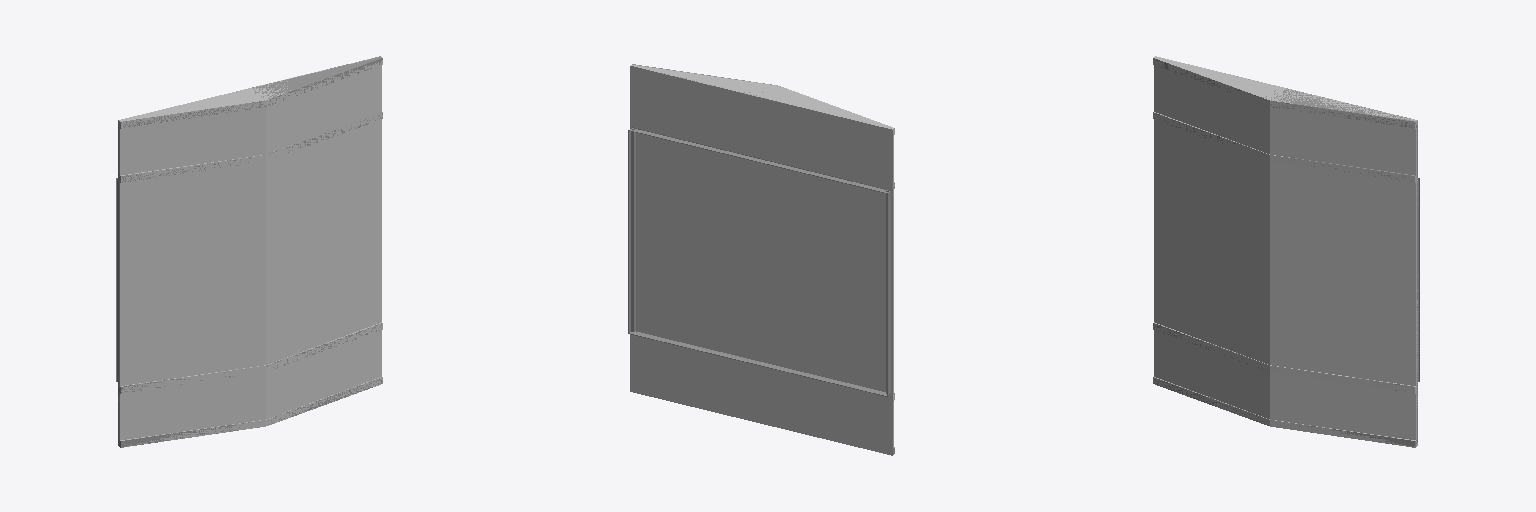
File: aucman_roof_skylight_cap.obj
The picture shows the model from 3 angles: view 1: azimuth 30°, elevation 25°; view 2: azimuth 150°, elevation 25°; view 3: azimuth 330°, elevation 25°; orthographic projection.
Visible parts, largest first — view 1: c_convex_005, c_convex_006, c_convex_007, g_skylight_mortar, c_convex_002, c_convex_003, c_convex_004, c_convex_001; view 2: c_convex_005, c_convex_006, c_convex_007, g_skylight_mortar, c_convex_001, c_convex_002; view 3: c_convex_005, c_convex_007, c_convex_006, c_convex_002, g_skylight_mortar, c_convex_003, c_convex_004, c_convex_001.
Part boxes in pixels (bbox=[...]): c_convex_005: bbox=[118, 65, 381, 439]; c_convex_006: bbox=[120, 330, 381, 439]; c_convex_007: bbox=[118, 58, 378, 178]; g_skylight_mortar: bbox=[116, 56, 382, 447]; c_convex_002: bbox=[119, 60, 382, 127]; c_convex_003: bbox=[120, 322, 382, 392]; c_convex_004: bbox=[119, 112, 382, 182]; c_convex_001: bbox=[120, 377, 382, 447]; c_convex_005: bbox=[630, 66, 893, 455]; c_convex_006: bbox=[630, 334, 893, 454]; c_convex_007: bbox=[630, 65, 893, 189]; g_skylight_mortar: bbox=[628, 64, 894, 453]; c_convex_001: bbox=[630, 385, 891, 455]; c_convex_002: bbox=[659, 75, 894, 134]; c_convex_005: bbox=[1154, 65, 1417, 445]; c_convex_007: bbox=[1154, 65, 1417, 181]; c_convex_006: bbox=[1154, 330, 1417, 446]; c_convex_002: bbox=[1153, 56, 1417, 128]; g_skylight_mortar: bbox=[1153, 60, 1419, 447]; c_convex_003: bbox=[1153, 322, 1415, 393]; c_convex_004: bbox=[1153, 112, 1417, 182]; c_convex_001: bbox=[1153, 377, 1415, 447].
Size of the model in its own units: 1010 by 1200 by 137.